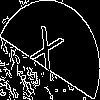X: (25, 25, 64, 81)
